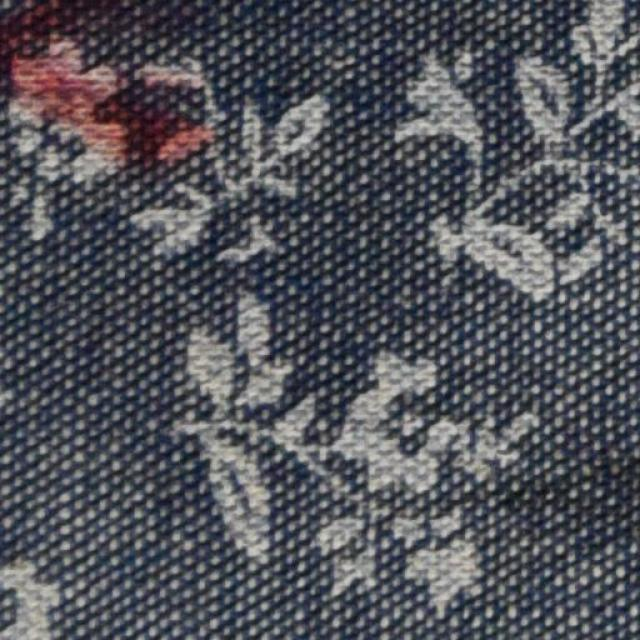Stain: (0, 1, 235, 182)
